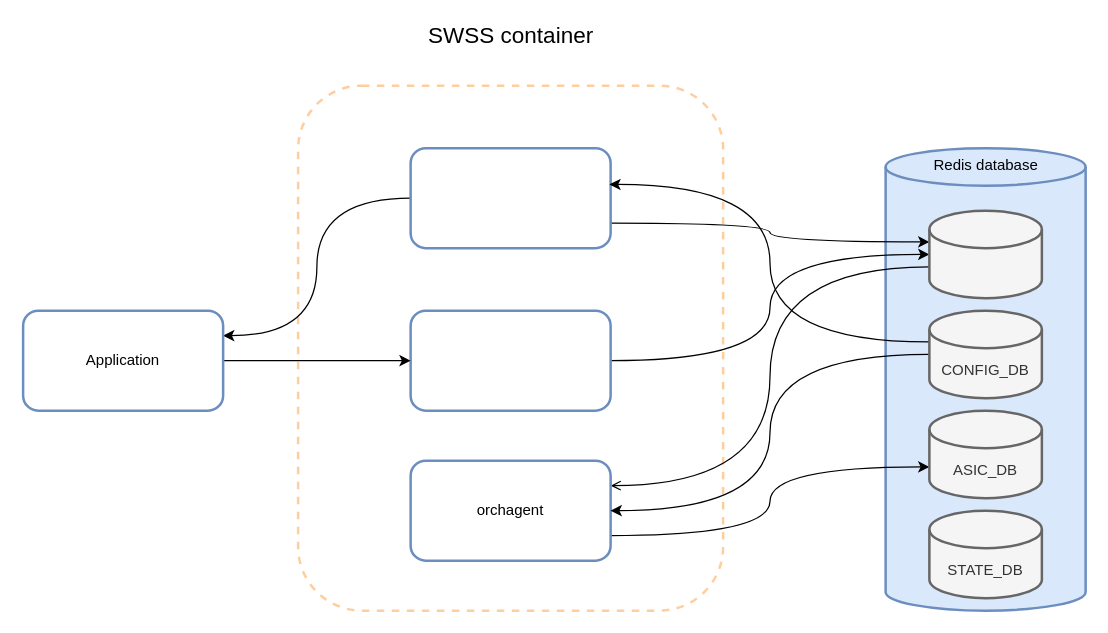
This 1108x633 diagram has some shape labels left out. Each missing label, with the box of its shape:
*mgrd: (409, 146, 611, 249)
*syncd: (409, 309, 611, 411)
APP_DB: (928, 209, 1042, 299)
